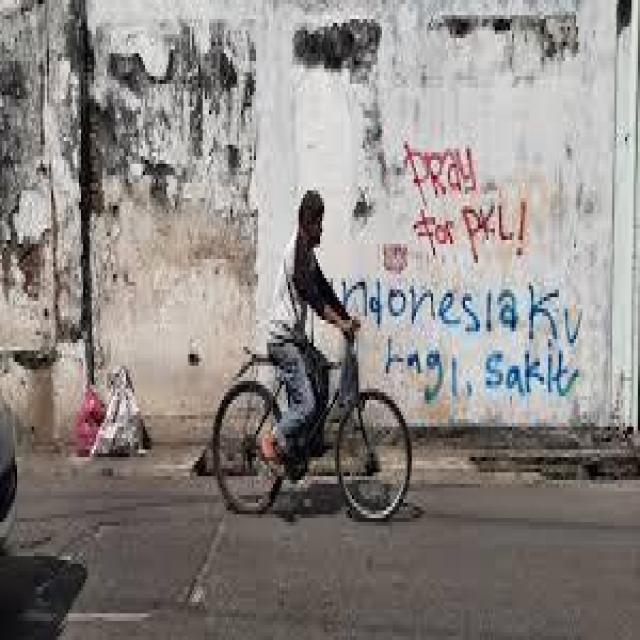nonspitting: (342, 278, 582, 405), (403, 141, 528, 260)
